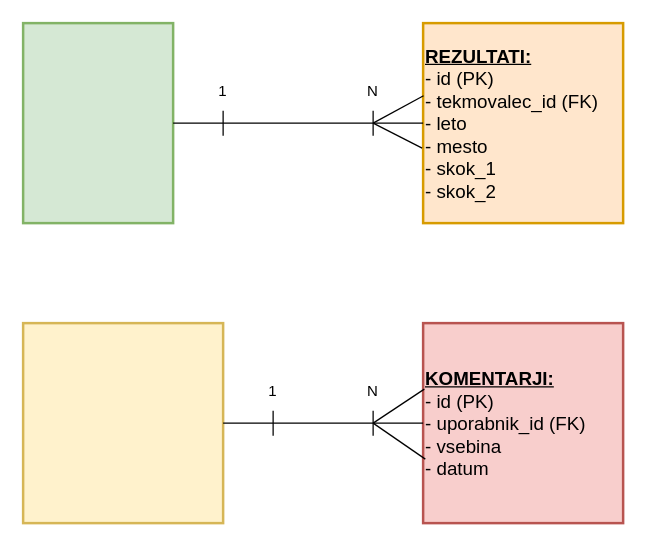
Image size: 645x545. Some labels were removed from this diagram. The shapes that lost their labels are listed below. From the top down, each one's centre as x and y in pixels, then its label:
At pixel 97 122: "TEKMOVALCI: - id (PK) - ime - priimek - drzava".
At pixel 122 422: "UPORABNIKI: - id (PK) - uporabnisko_ime - geslo".
